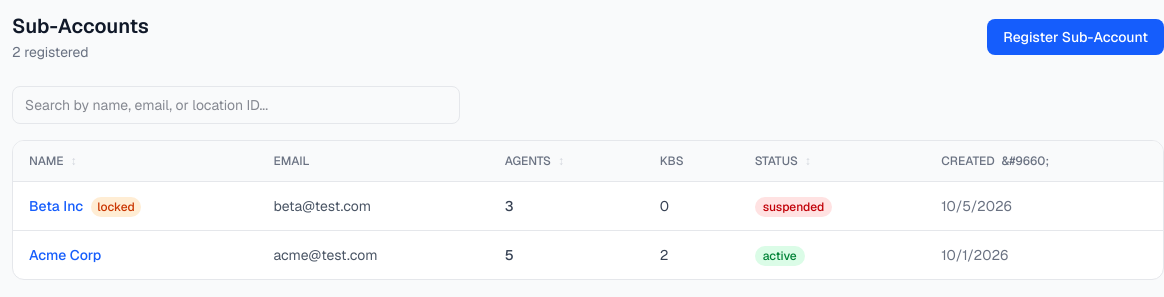
it: TenantsTable › shows no-match message when search has no results
Type "zzzzzzz" into the field with placeholder "Search by name, email, or location ID..." at (236, 105), box 12,86 -> 460,124
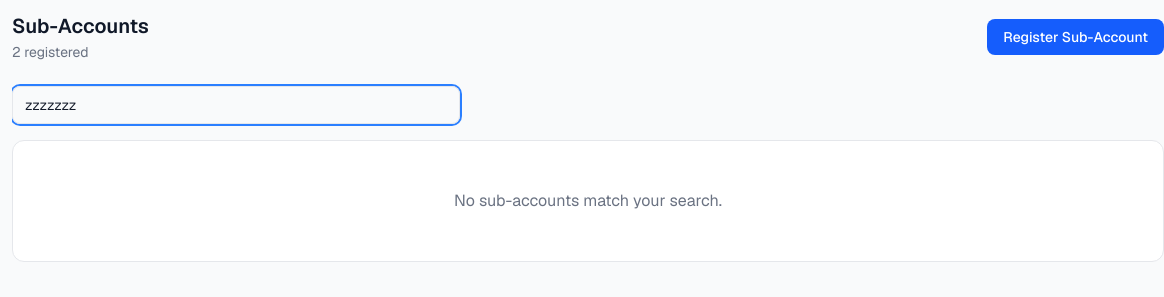
Expected: the text "No sub-accounts match your search." is shown, 454,190 -> 722,211
